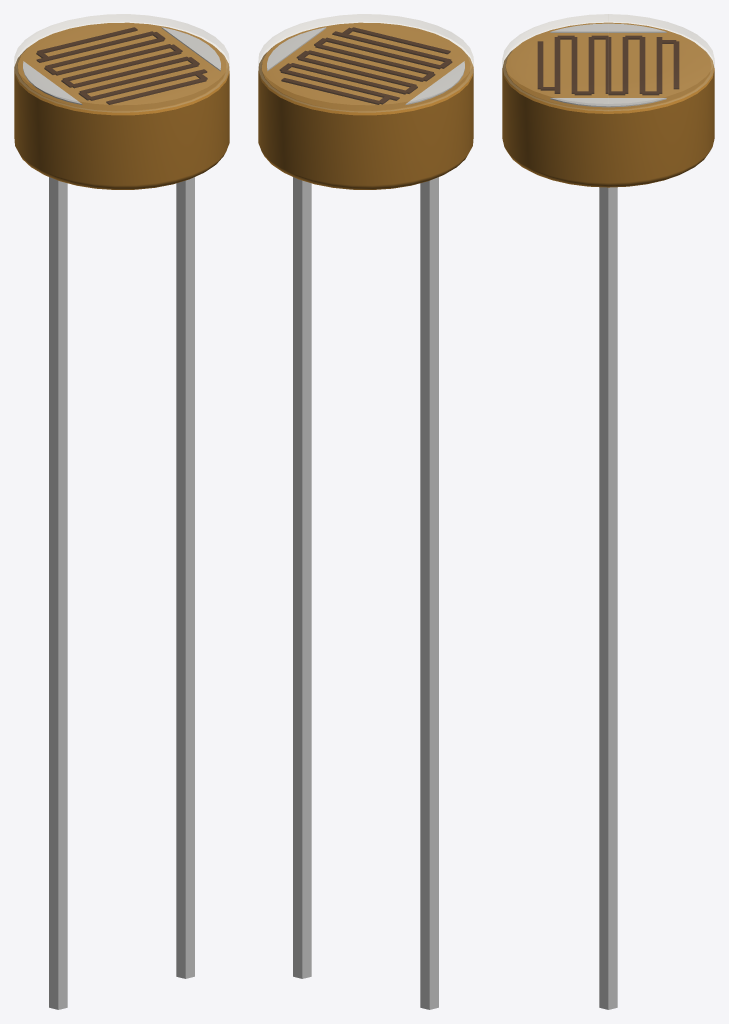
Rendered from photoresistor.glb.
3 renders of one model, left to right at view 1: azimuth 30°, elevation 25°; view 2: azimuth 150°, elevation 25°; view 3: azimuth 270°, elevation 25°, orthographic.
Visible parts, largest first — view 1: LDR_Body, LDR_Coating, Lead_a, Lead_b, LDR_Track, LDR_Electrodes; view 2: LDR_Body, LDR_Coating, Lead_a, Lead_b, LDR_Track, LDR_Electrodes; view 3: LDR_Body, LDR_Coating, Lead_b, LDR_Track, LDR_Electrodes.
Boxes of the visible parts, left/top/right/bottom form: LDR_Body: left=14, top=22, right=229, bottom=189; LDR_Coating: left=14, top=14, right=229, bottom=112; Lead_a: left=49, top=177, right=67, bottom=1009; Lead_b: left=176, top=177, right=194, bottom=978; LDR_Track: left=36, top=27, right=207, bottom=104; LDR_Electrodes: left=23, top=27, right=220, bottom=104; LDR_Body: left=258, top=22, right=473, bottom=189; LDR_Coating: left=258, top=14, right=473, bottom=112; Lead_a: left=420, top=177, right=438, bottom=1009; Lead_b: left=293, top=177, right=311, bottom=978; LDR_Track: left=279, top=27, right=452, bottom=104; LDR_Electrodes: left=267, top=27, right=464, bottom=104; LDR_Body: left=502, top=22, right=714, bottom=187; LDR_Coating: left=502, top=14, right=714, bottom=110; Lead_b: left=599, top=187, right=617, bottom=1009; LDR_Track: left=537, top=35, right=679, bottom=95; LDR_Electrodes: left=550, top=23, right=666, bottom=107.
Size of the model in its own units: 0.005 by 0.0239 by 0.005.
